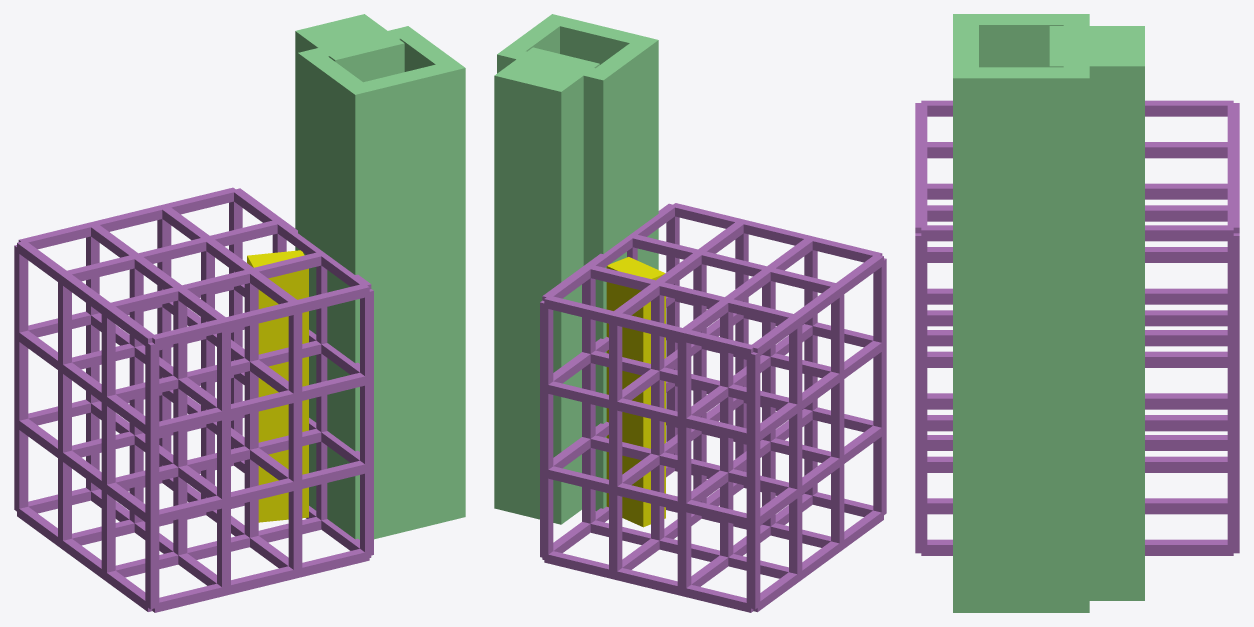
Rendered from folie_tag_069.glb.
3 views of the same model, side by side, from view 1: azimuth 30°, elevation 25°; view 2: azimuth 150°, elevation 25°; view 3: azimuth 270°, elevation 25° (orthographic). The views are drawn at different scales.
Parts seen in each view (by area): view 1: folie_tag_069_00_cage, folie_tag_069_01_tower, folie_tag_069_02_fin, folie_tag_069_core; view 2: folie_tag_069_00_cage, folie_tag_069_core, folie_tag_069_01_tower, folie_tag_069_02_fin; view 3: folie_tag_069_01_tower, folie_tag_069_00_cage, folie_tag_069_core.
Boxes of the visible parts, <box> form: folie_tag_069_00_cage: <box>14,187,373,612</box>; folie_tag_069_01_tower: <box>298,26,465,539</box>; folie_tag_069_02_fin: <box>247,250,308,522</box>; folie_tag_069_core: <box>295,14,404,250</box>; folie_tag_069_00_cage: <box>540,203,886,612</box>; folie_tag_069_core: <box>494,47,599,524</box>; folie_tag_069_01_tower: <box>497,14,658,511</box>; folie_tag_069_02_fin: <box>606,257,665,527</box>; folie_tag_069_01_tower: <box>953,14,1089,612</box>; folie_tag_069_00_cage: <box>915,100,1239,555</box>; folie_tag_069_core: <box>1049,26,1144,600</box>.
Bounding box in the file's own units: 5.24 × 6.87 × 3.74.
